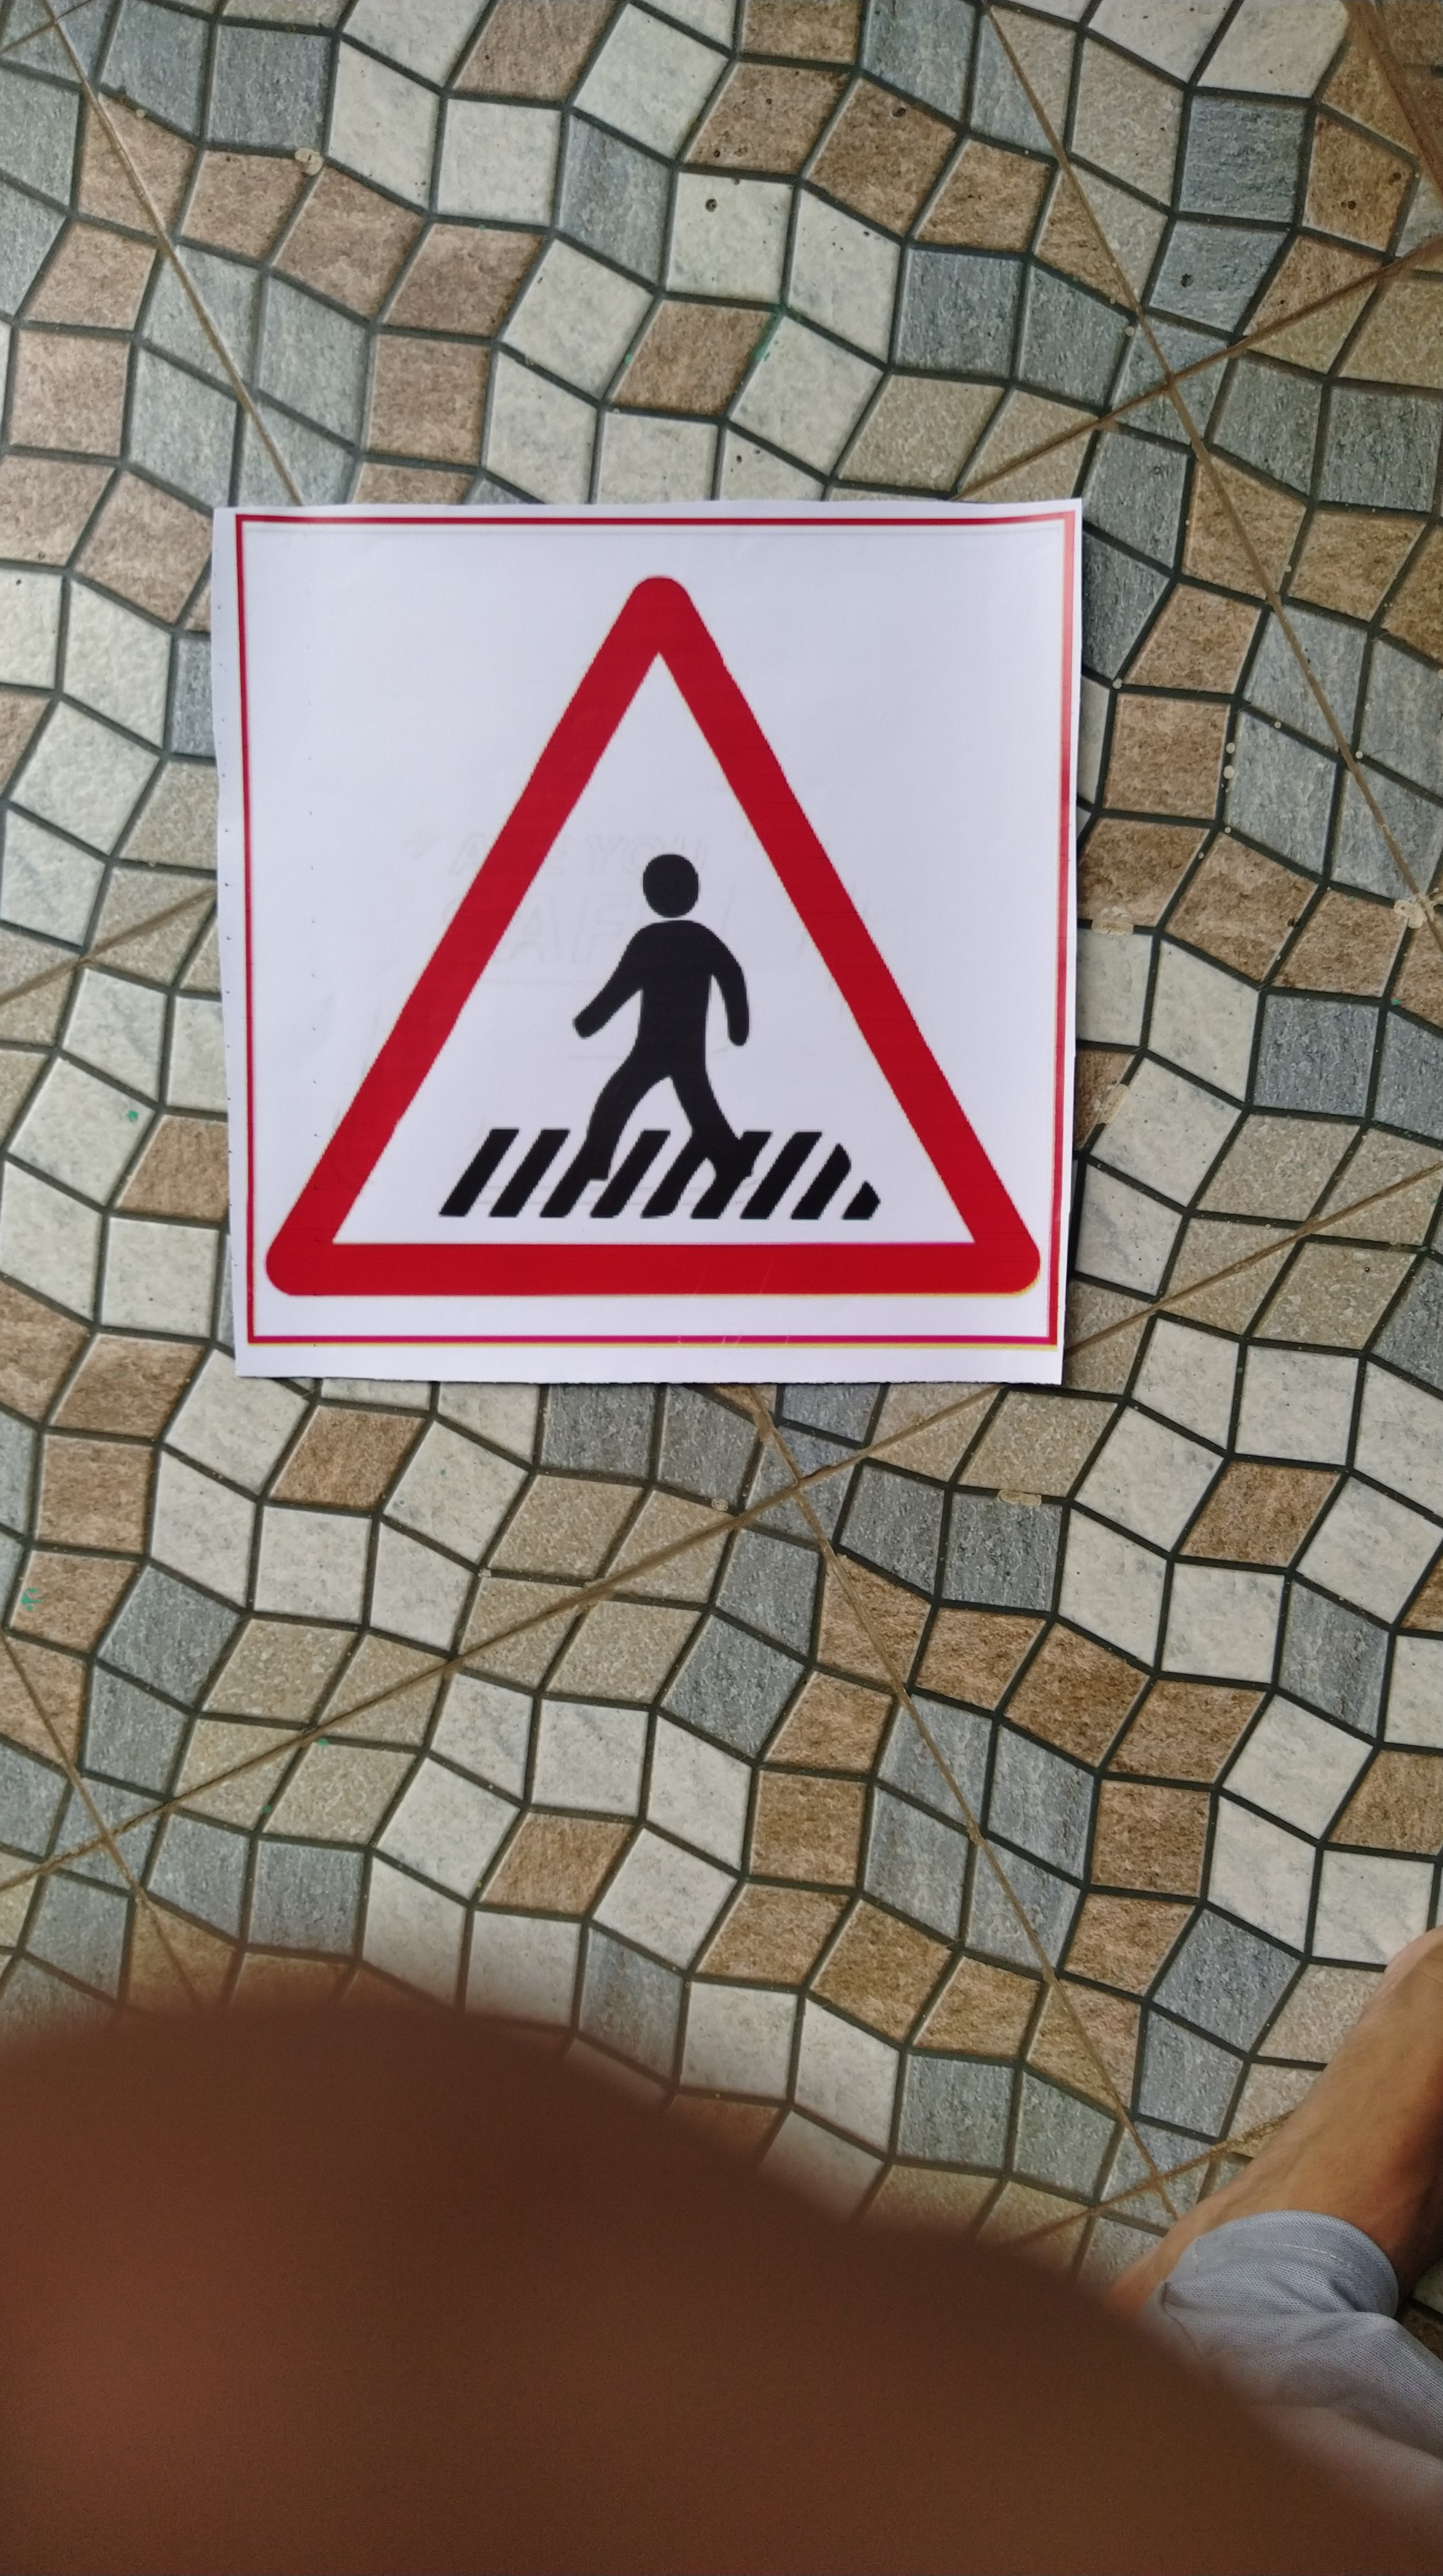pedestrain crossing: (234, 534, 1080, 1316), (243, 543, 1039, 1316)
